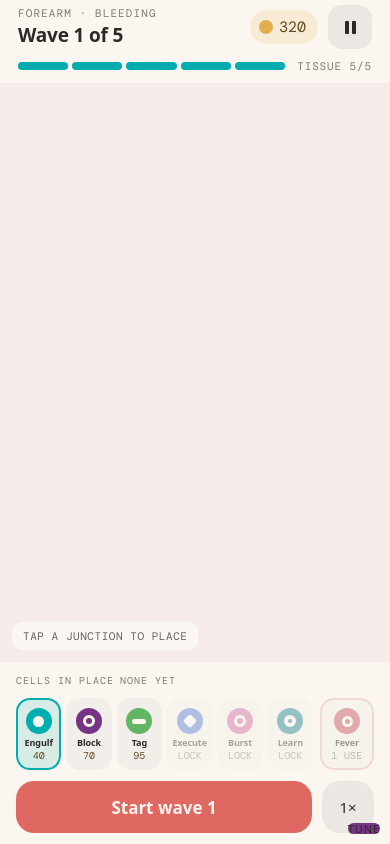
FightPage › toggles the pace
Click the button with test id "speed" at x=348, y=807, box [322, 781, 374, 833]
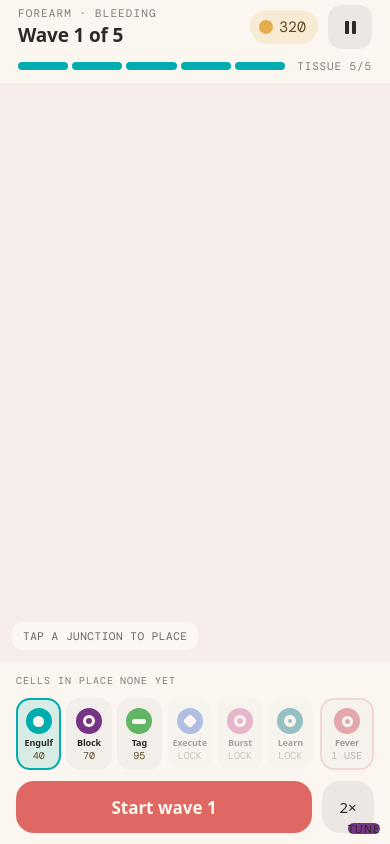
Result: the button with test id "speed" reads "2×"
Click the button with test id "speed" at x=348, y=807, box [322, 781, 374, 833]
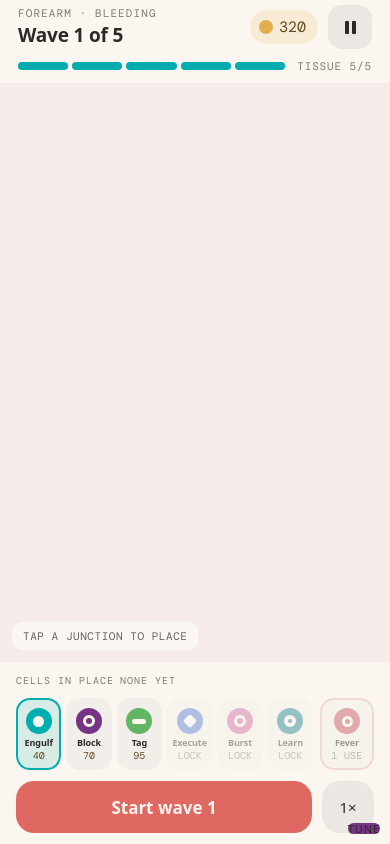
Result: the button with test id "speed" reads "1×" at [322, 781, 374, 833]
